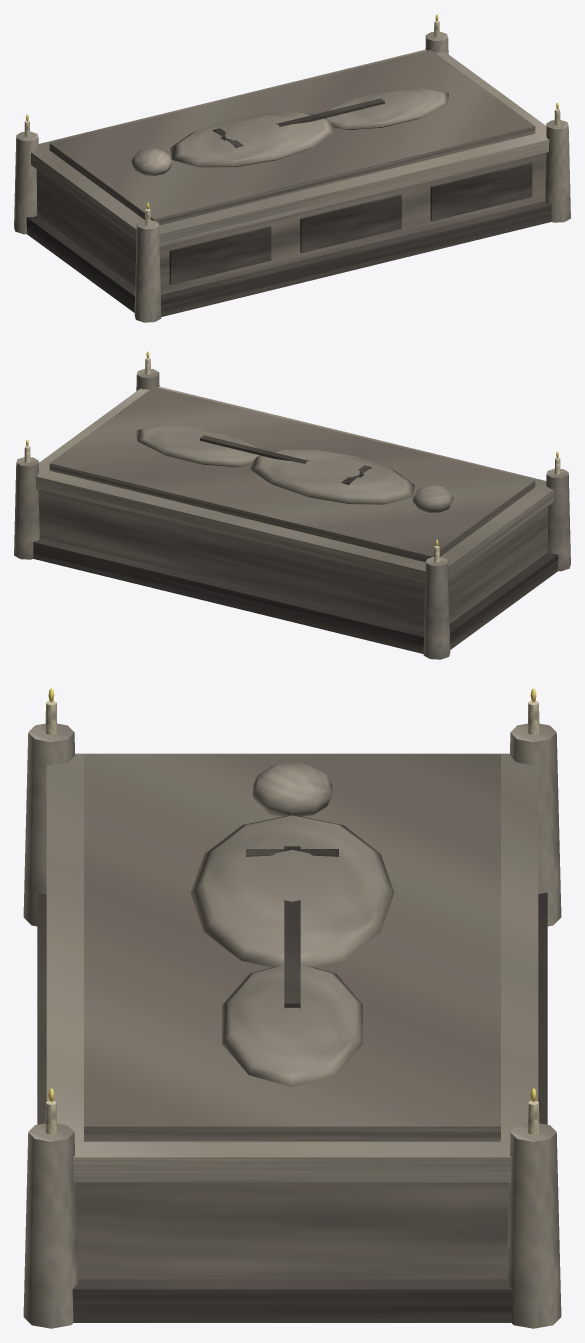
Rendered from tomb.obj.
3 renders of one model, top to bottom at view 1: azimuth 30°, elevation 25°; view 2: azimuth 150°, elevation 25°; view 3: azimuth 270°, elevation 25°, orthographic. The views are drawn at different scales.
Size of the model in its own units: 21.6 by 5.45 by 11.6.
1 material, 1 textured.
